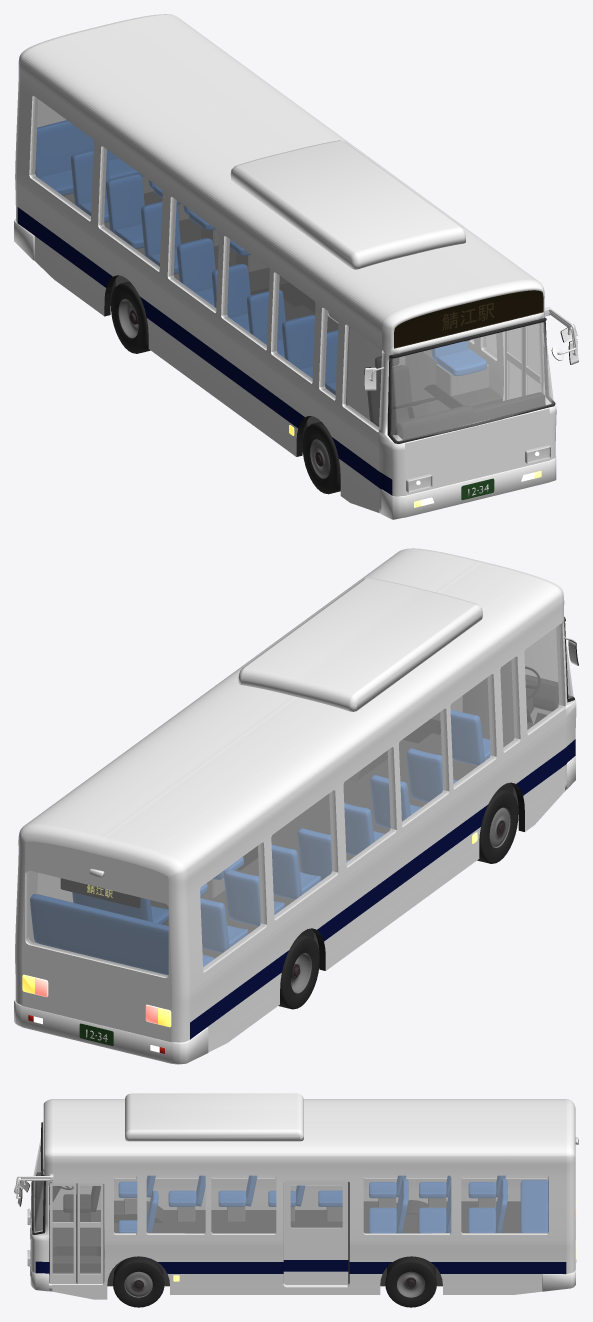
The model's file is bus.glb.
3 renders of one model, top to bottom at view 1: azimuth 30°, elevation 25°; view 2: azimuth 150°, elevation 25°; view 3: azimuth 270°, elevation 25°, orthographic. The views are drawn at different scales.
Visible parts, largest first — view 1: Body, AirConditioner, Glass.015, Seats, Glass.006, Glass.007, Seats.002, DestinationSignCover, Glass.008, Glass.009, Chassis, Glass.010 (+16 smaller); view 2: Body, AirConditioner, Glass.005, Seats.003, Seats, Glass.006, Glass.007, Seats.002, Chassis, Glass.008, Glass.009, Glass.010 (+11 smaller); view 3: Body, AirConditioner, Chassis, Glass.003, Glass.004, MainDoor, Glass.002, Glass.001, Seats.001, Cube.040, TyreRearLeft, TyreLeftFront (+19 smaller).
Boxes of the visible parts, x1,y1,x2,y2 form: Body: (15, 14, 556, 519); AirConditioner: (230, 140, 465, 269); Glass.015: (387, 322, 553, 441); Seats: (177, 238, 314, 377); Glass.006: (31, 96, 93, 220); Glass.007: (99, 147, 162, 270); Seats.002: (71, 150, 180, 273); DestinationSignCover: (394, 290, 543, 348); Glass.008: (169, 197, 218, 311); Glass.009: (223, 237, 269, 349); Chassis: (110, 191, 449, 439); Glass.010: (272, 272, 315, 382); Body: (15, 548, 576, 1064); AirConditioner: (238, 578, 482, 711); Glass.005: (26, 870, 168, 977); Seats.003: (30, 894, 214, 974); Seats: (297, 748, 457, 880); Glass.006: (200, 843, 265, 971); Glass.007: (271, 790, 336, 919); Seats.002: (200, 845, 320, 952); Chassis: (163, 712, 518, 951); Glass.008: (343, 748, 395, 866); Glass.009: (399, 709, 447, 825); Glass.010: (450, 674, 494, 787); Body: (31, 1099, 575, 1299); AirConditioner: (125, 1093, 303, 1141); Chassis: (49, 1201, 520, 1286); Glass.003: (363, 1175, 451, 1234); Glass.004: (461, 1175, 548, 1234); MainDoor: (283, 1180, 349, 1284); Glass.002: (211, 1175, 276, 1234); Glass.001: (146, 1175, 205, 1233); Seats.001: (369, 1178, 507, 1232); Cube.040: (290, 1185, 342, 1228); TyreRearLeft: (385, 1256, 436, 1307); TyreLeftFront: (113, 1256, 164, 1307).
Size of the model in its own units: 2.54 by 2.98 by 9.01.
